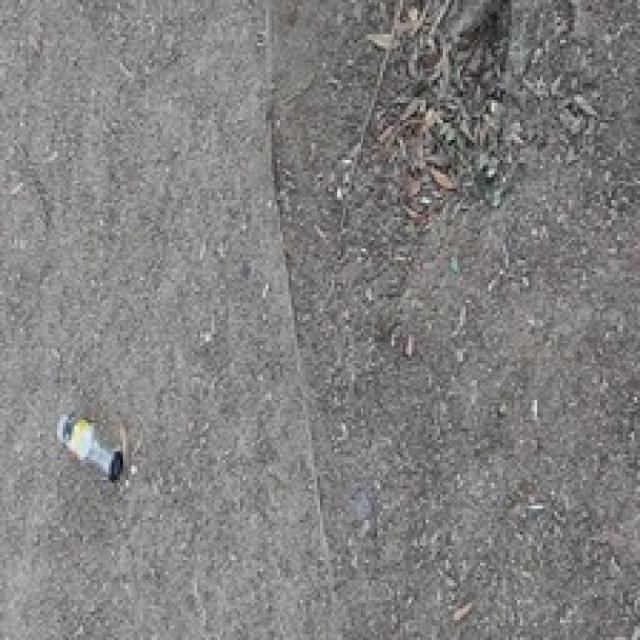Glass: (54, 412, 115, 474)
